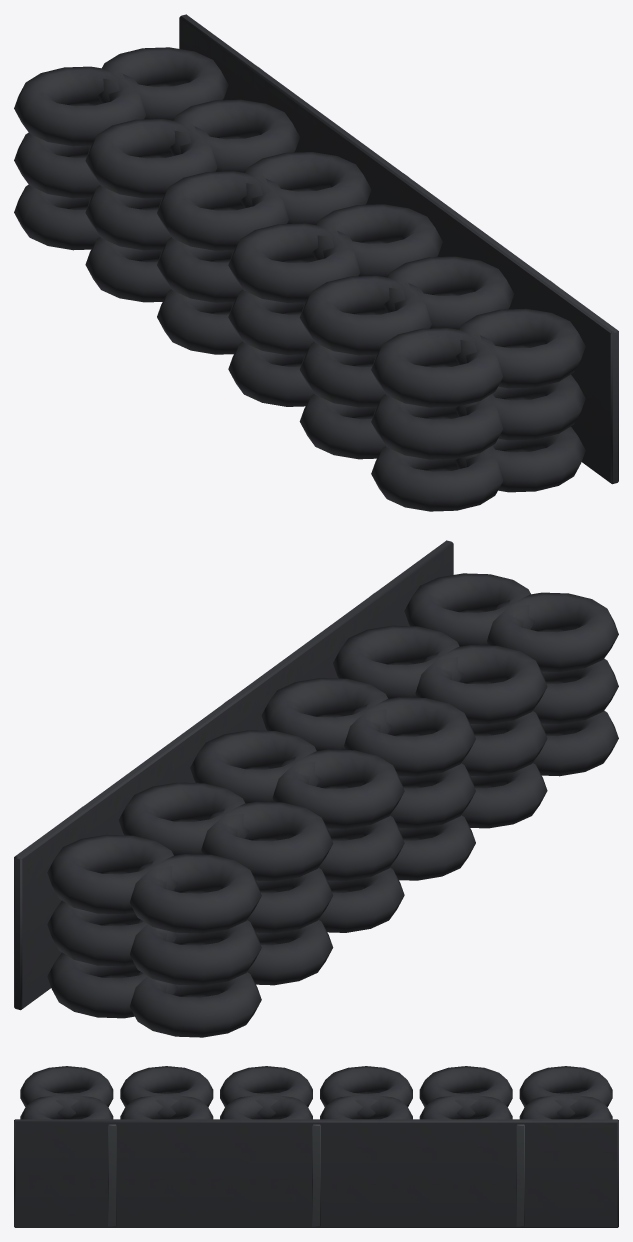
Rendered from tyre-wall_high.glb.
The picture shows the model from 3 angles, top to bottom: view 1: azimuth 30°, elevation 25°; view 2: azimuth 150°, elevation 25°; view 3: azimuth 270°, elevation 25°; orthographic projection. The views are drawn at different scales.
Visible parts, largest first — view 1: rubber; view 2: rubber; view 3: rubber, dark-steel.
Boxes of the visible parts, box(x1,y1,x2,y2) form: rubber: box(14, 14, 618, 511); rubber: box(14, 540, 618, 1037); rubber: box(14, 1066, 618, 1227); dark-steel: box(108, 1124, 524, 1226).
Size of the model in its own units: 1.1 by 0.7801 by 4.
2 materials, 2 textured.
